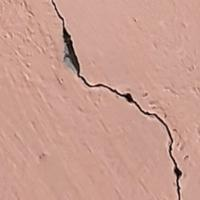crack: (50, 0, 184, 199)
